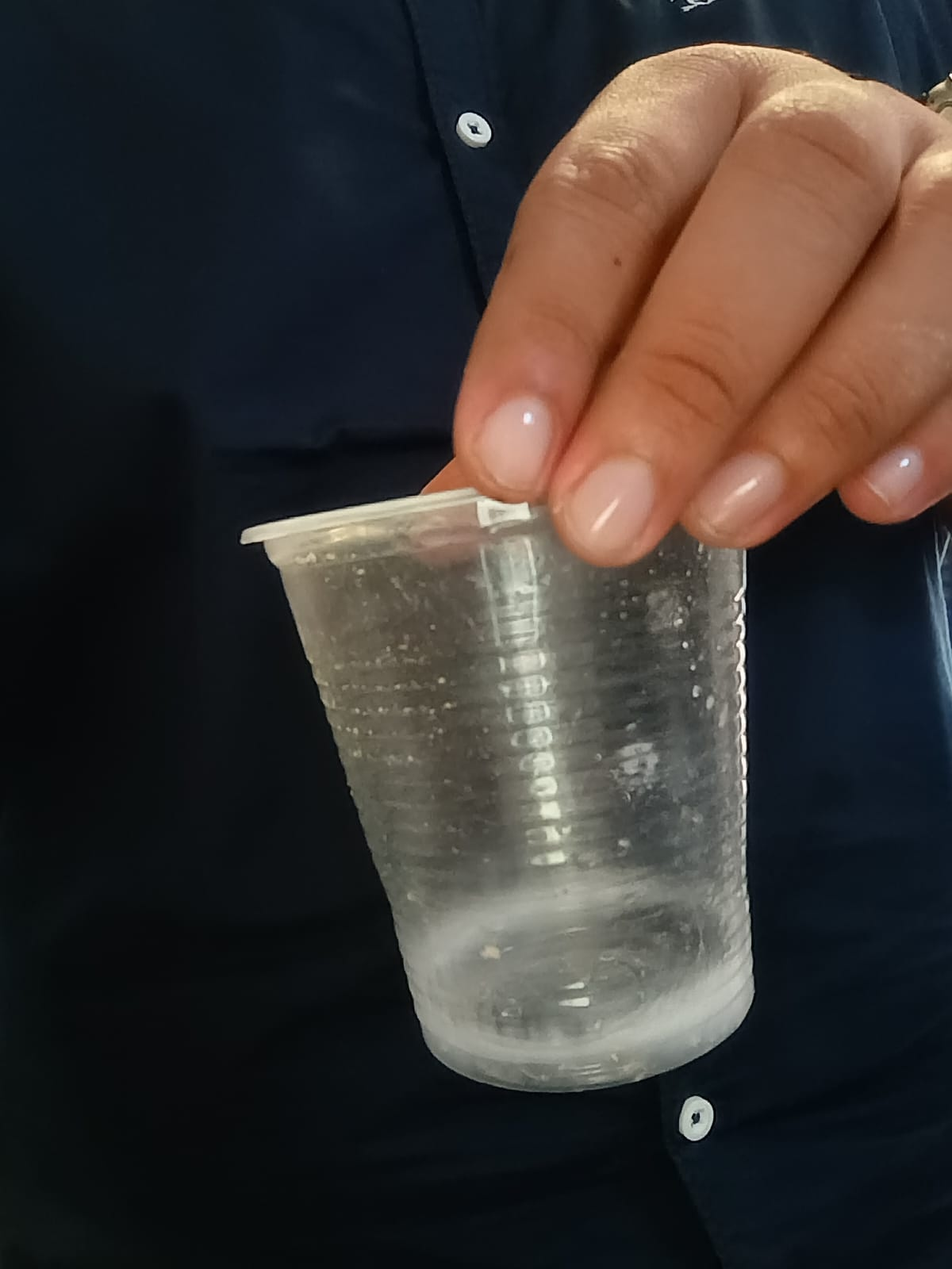Plastico: (239, 488, 754, 1092)
